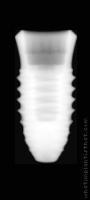Cowellmedi: (15, 30, 77, 164)
